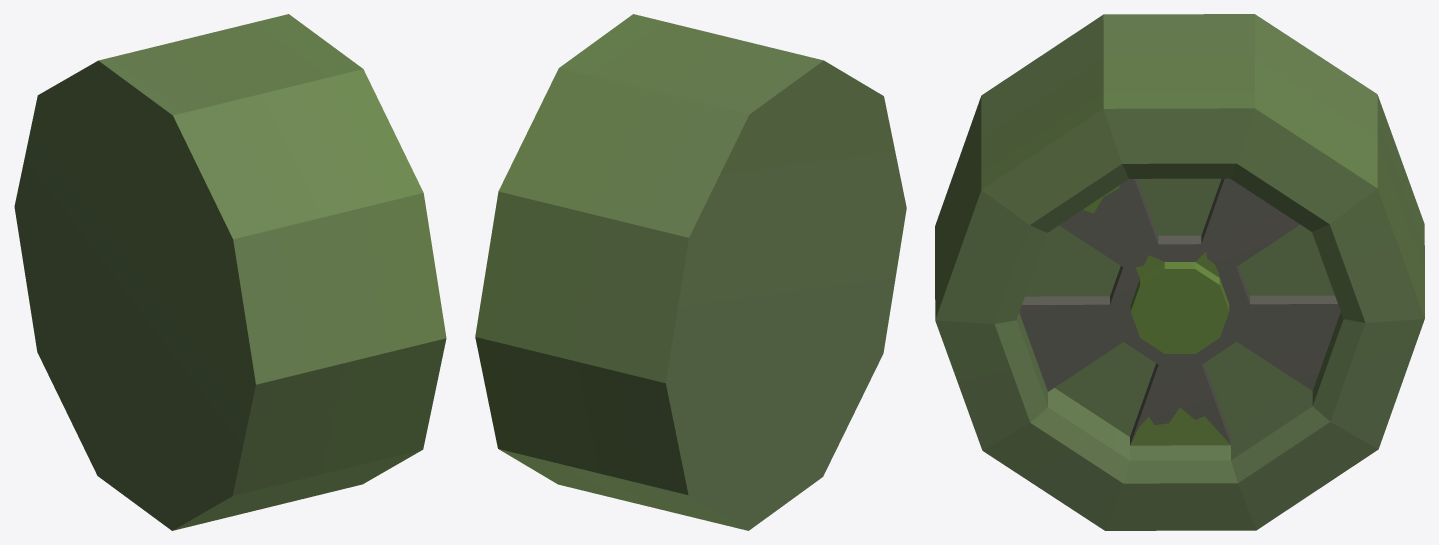
The model's file is Wheel_04.fbx.
The picture shows the model from 3 angles, left to right: view 1: azimuth 30°, elevation 25°; view 2: azimuth 150°, elevation 25°; view 3: azimuth 270°, elevation 25°; orthographic projection.
Visible parts, largest first — view 1: Wheel_04; view 2: Wheel_04; view 3: Wheel_04.
Part boxes in pixels (box(x1,y1,x2,y2)): Wheel_04: box(14, 14, 446, 530); Wheel_04: box(475, 14, 906, 530); Wheel_04: box(935, 14, 1424, 530).
Bounding box in the file's own units: 0.2678 × 0.5364 × 0.5635.
